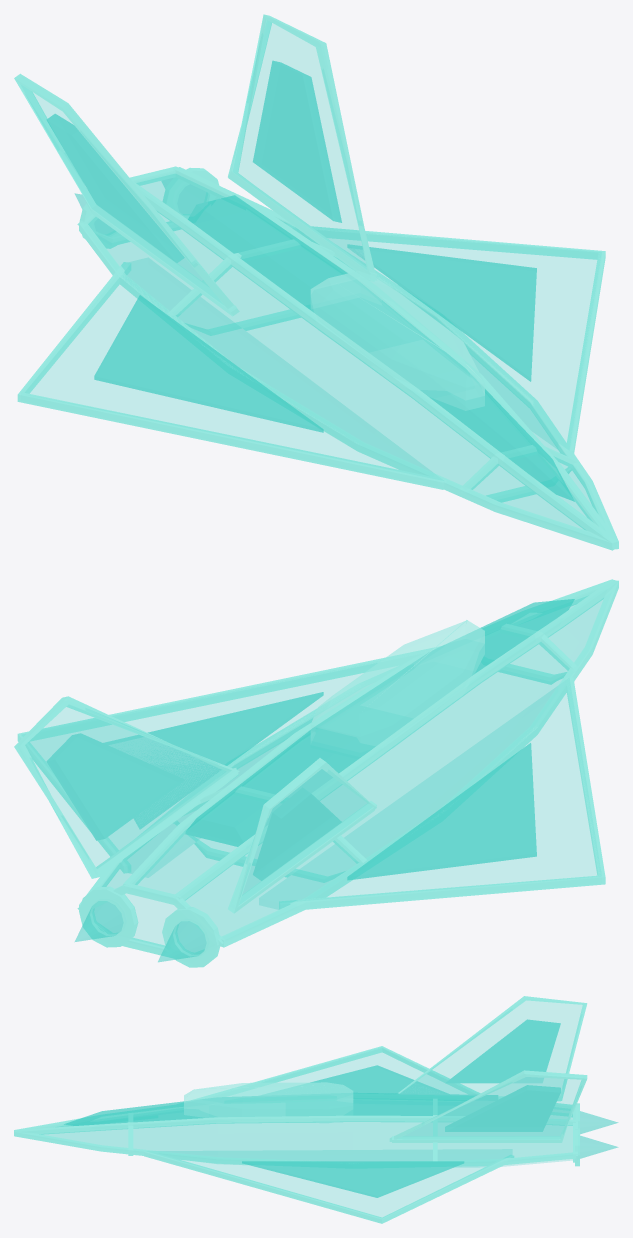
Rendered from decoy.glb.
The picture shows the model from 3 angles, top to bottom: view 1: azimuth 30°, elevation 25°; view 2: azimuth 150°, elevation 25°; view 3: azimuth 270°, elevation 25°; orthographic projection. The views are drawn at different scales.
Visible parts, largest first — view 1: decoy; view 2: decoy; view 3: decoy.
Part boxes in pixels (left/top/right/bottom): decoy: left=14, top=14, right=618, bottom=550; decoy: left=14, top=579, right=618, bottom=967; decoy: left=14, top=996, right=618, bottom=1223.
Bounding box in the file's own units: 4.25 × 1.37 × 6.26.
